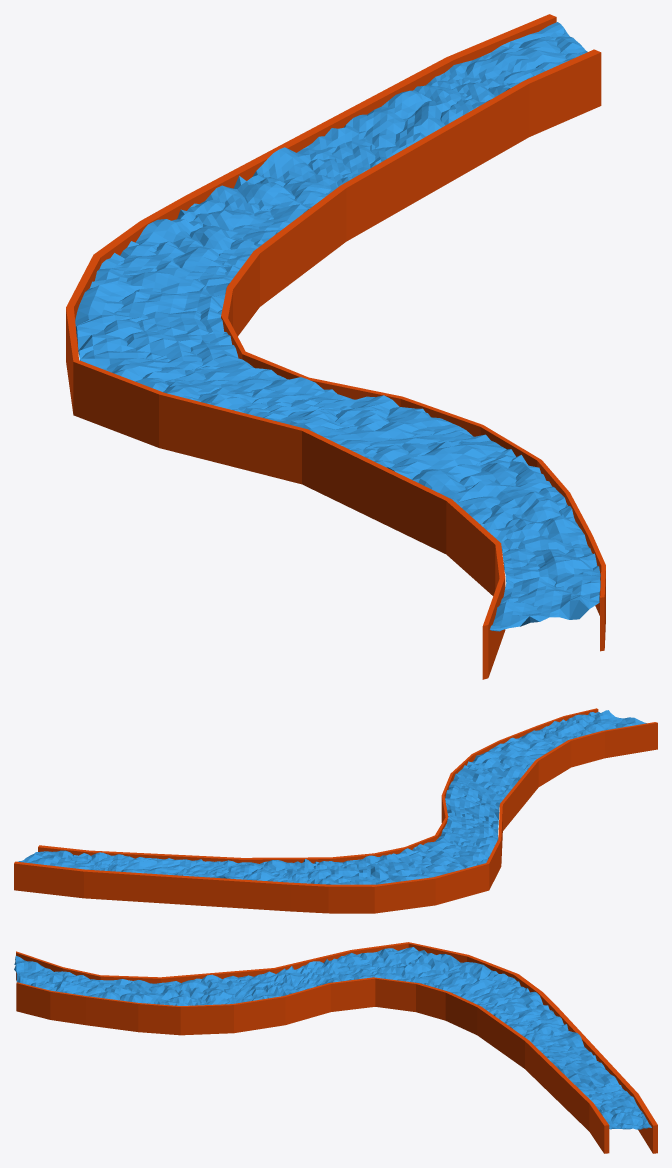
File: sungai.fbx
3 renders of one model, top to bottom at view 1: azimuth 30°, elevation 25°; view 2: azimuth 150°, elevation 25°; view 3: azimuth 270°, elevation 25°, orthographic. The views are drawn at different scales.
Parts seen in each view (by area): view 1: Plane, Cube, Cube.001; view 2: Cube, Plane, Cube.001; view 3: Plane, Cube.001, Cube.
Part boxes in pixels (x1,y1,x2,y2): Plane: (75, 22, 600, 631); Cube: (66, 14, 556, 679); Cube.001: (221, 49, 605, 651); Cube: (14, 722, 657, 913); Plane: (18, 710, 646, 884); Cube.001: (38, 708, 598, 863); Plane: (14, 947, 651, 1129); Cube.001: (16, 977, 609, 1153); Cube: (16, 942, 657, 1153).
Bounding box in the file's own units: 1375 × 107 × 2038.
